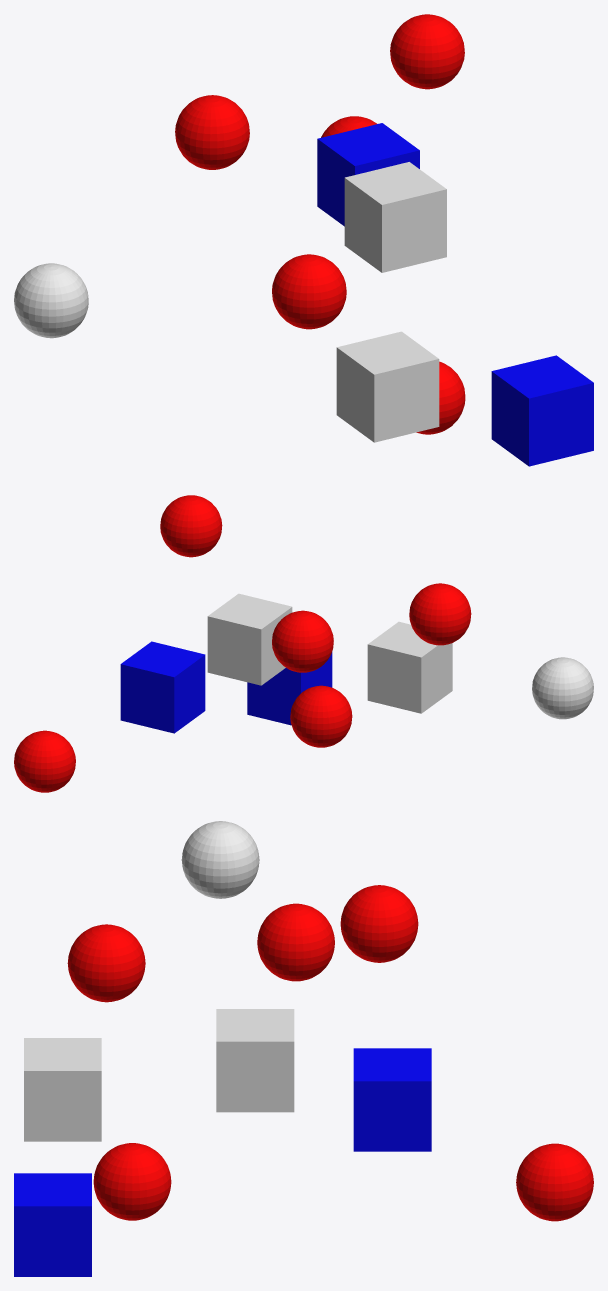
Rendered from sample0002glb.glb.
3 views of the same model, one above another, from view 1: azimuth 30°, elevation 25°; view 2: azimuth 150°, elevation 25°; view 3: azimuth 270°, elevation 25° (orthographic). The views are drawn at different scales.
Visible parts, largest first — view 1: Cube.001, Cube, 立方体.001, 立方体, 球.003, 球.004, Sphere, 球, 球.001, 球.002; view 2: 立方体, Cube.001, Cube, 球.004, Sphere, 球.002, 球, 球.001, 球.003, 立方体.001; view 3: 立方体, Cube, Cube.001, 立方体.001, 球.002, 球.004, 球.003, Sphere, 球, 球.001.
Boxes of the visible parts, left/top/right/bottom form: Cube.001: left=336, top=331, right=439, bottom=442; Cube: left=344, top=162, right=446, bottom=272; 立方体.001: left=491, top=355, right=593, bottom=466; 立方体: left=317, top=123, right=419, bottom=226; 球.003: left=390, top=14, right=464, bottom=89; 球.004: left=272, top=254, right=346, bottom=329; Sphere: left=14, top=263, right=88, bottom=338; 球: left=175, top=95, right=249, bottom=169; 球.001: left=416, top=361, right=465, bottom=434; 球.002: left=321, top=116, right=376, bottom=137; 立方体: left=120, top=641, right=205, bottom=733; Cube.001: left=367, top=621, right=452, bottom=713; Cube: left=207, top=593, right=292, bottom=685; 球.004: left=409, top=583, right=471, bottom=645; Sphere: left=532, top=657, right=593, bottom=719; 球.002: left=14, top=730, right=75, bottom=792; 球: left=272, top=610, right=333, bottom=672; 球.001: left=290, top=685, right=352, bottom=747; 球.003: left=160, top=495, right=222, bottom=557; 立方体.001: left=247, top=652, right=332, bottom=725; 立方体: left=353, top=1048, right=431, bottom=1151; Cube: left=216, top=1009, right=294, bottom=1112; Cube.001: left=24, top=1038, right=101, bottom=1141; 立方体.001: left=14, top=1173, right=91, bottom=1276; 球.002: left=516, top=1143, right=593, bottom=1221; 球.004: left=67, top=924, right=145, bottom=1002; 球.003: left=257, top=903, right=334, bottom=981; Sphere: left=181, top=821, right=259, bottom=898; 球: left=340, top=885, right=418, bottom=962; 球.001: left=93, top=1143, right=171, bottom=1220.
Bounding box in the file's own units: 16.3 × 10.03 × 14.89.
